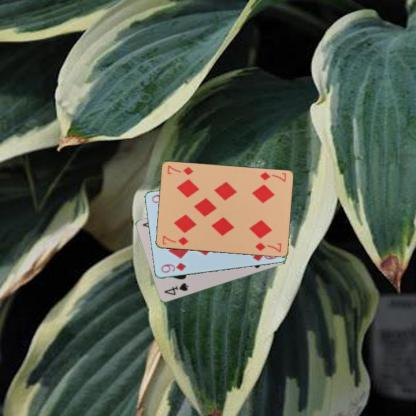4s: (161, 280, 190, 297)
7d: (160, 233, 190, 247), (257, 170, 287, 183)
9d: (158, 260, 188, 274)
